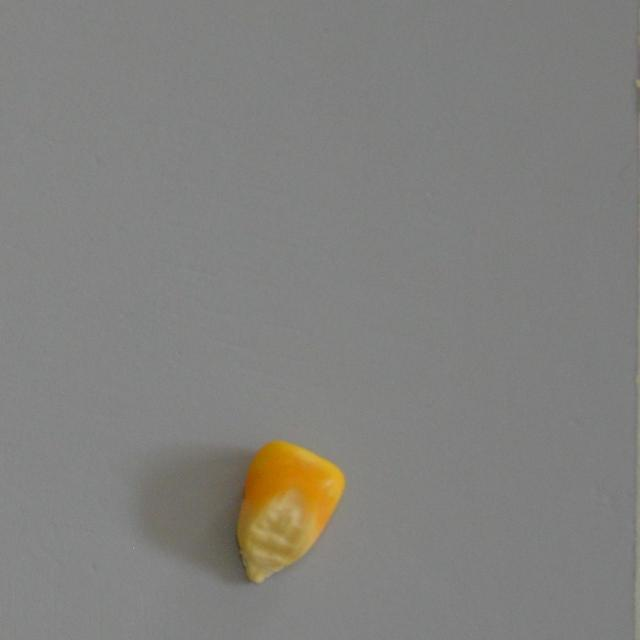entero: (230, 436, 346, 588)
